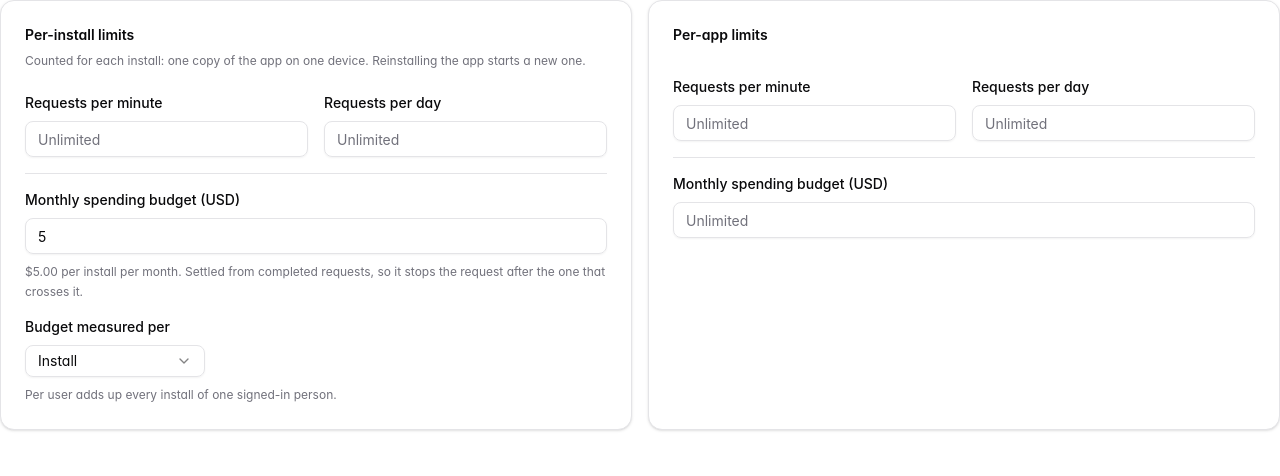
it: LimitsTab on an App Attest app › moves the budget to the user on an issuer-backed app
The width and height of the screenshot is (1280, 476).
Click the dropdown named "Budget measured per".
click(115, 361)  # box 25,345 -> 205,377
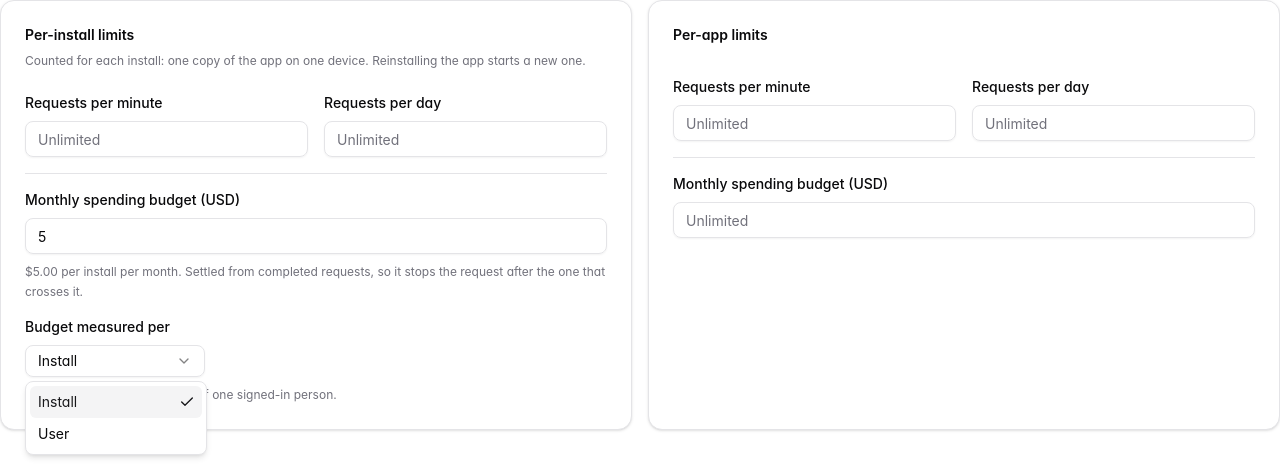
Click the option "User".
click(54, 434)  # box 38,425 -> 69,442
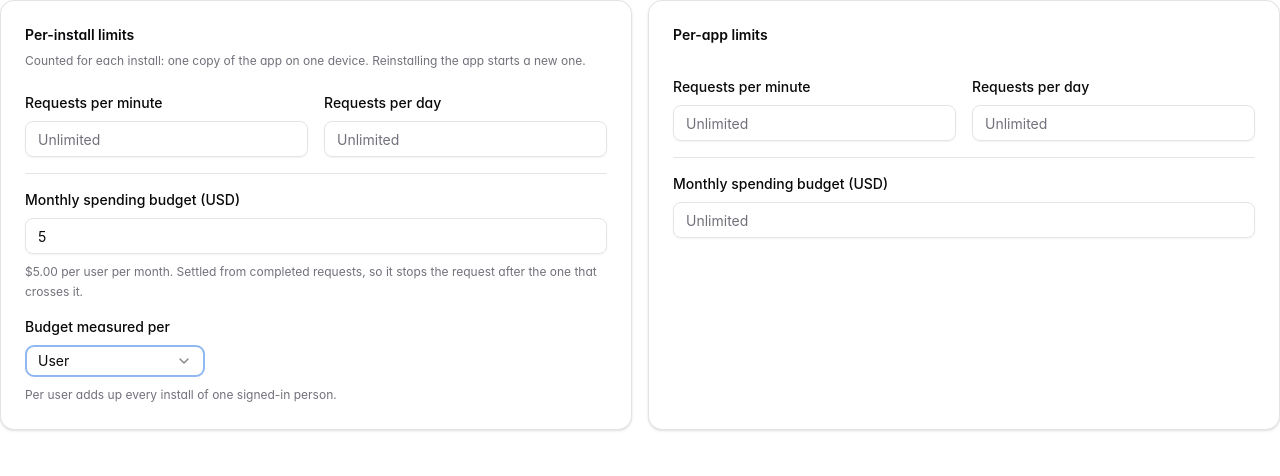
Expected: the dropdown named "Budget measured per" reads "User", 25,345 -> 205,377
Expected: the text "per user per month" is shown, 25,264 -> 597,298
